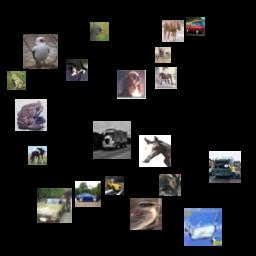airplane: (184, 208, 222, 246)
automobile: (37, 188, 72, 223), (75, 181, 101, 207), (186, 17, 205, 36), (105, 176, 124, 195)
bird: (23, 34, 58, 69), (130, 198, 162, 230), (90, 22, 109, 41)
cat: (66, 59, 88, 81), (159, 174, 181, 196)
dog: (117, 70, 146, 99)
frog: (15, 99, 47, 131), (7, 71, 26, 90)
truck: (93, 121, 131, 159), (209, 151, 241, 183)
